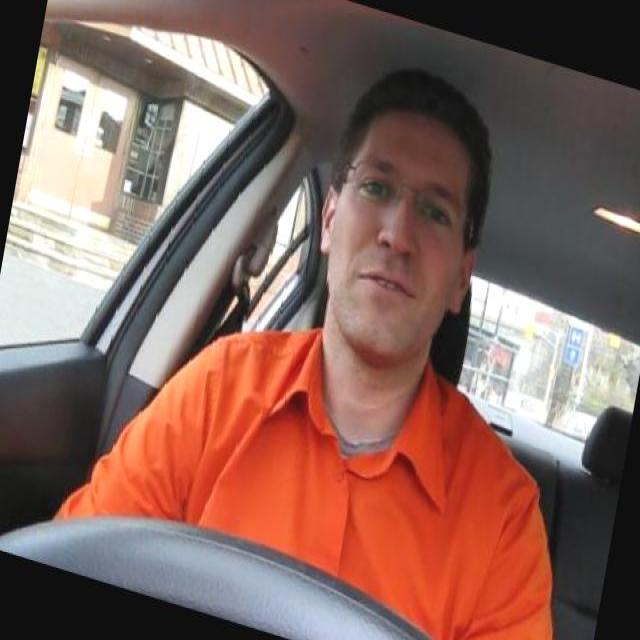no-seatbelt: (182, 337, 597, 640)
